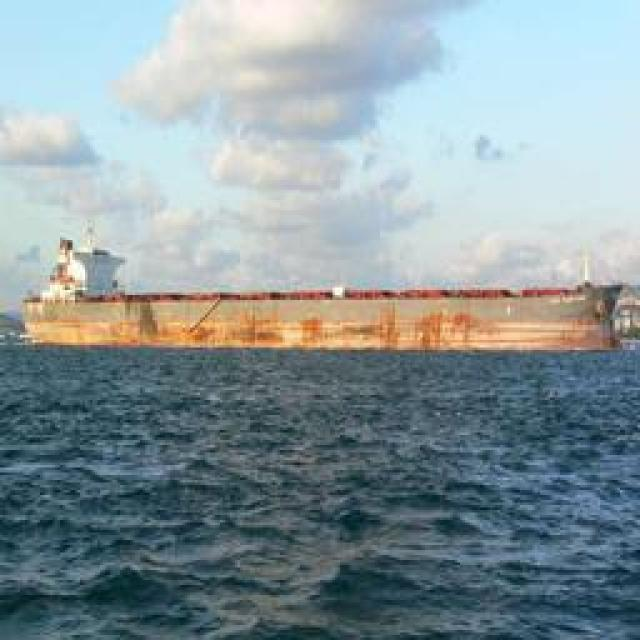CIV_Ship: (21, 282, 609, 356)
